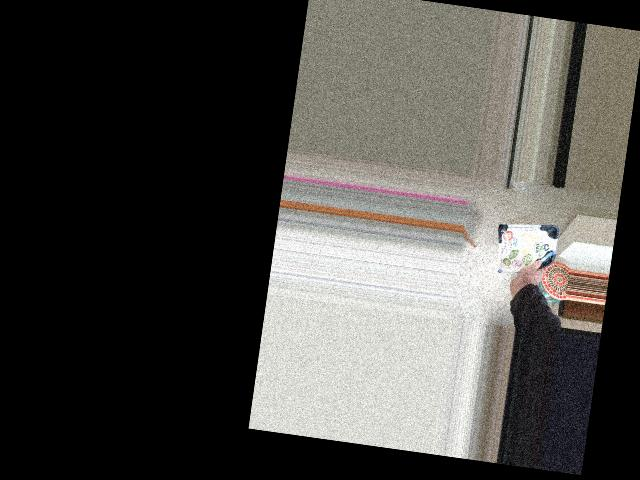cheese: (491, 234, 549, 288)
